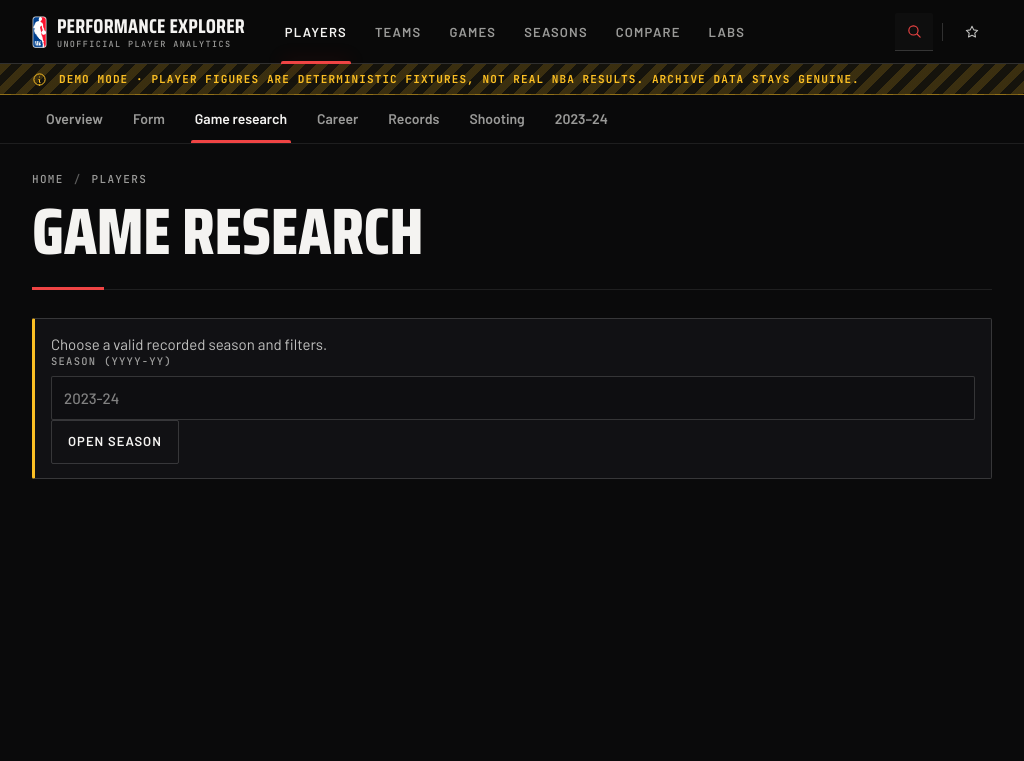
raw game research UI › does not fetch invalid URLs and can recover with an explicit season
The width and height of the screenshot is (1024, 761).
Check: the message shows "Choose a valid recorded season", box [51, 335, 327, 353]
In the field labelled "Season (YYYY-YY)": (513, 398) [51, 376, 975, 420], type "2022-23"
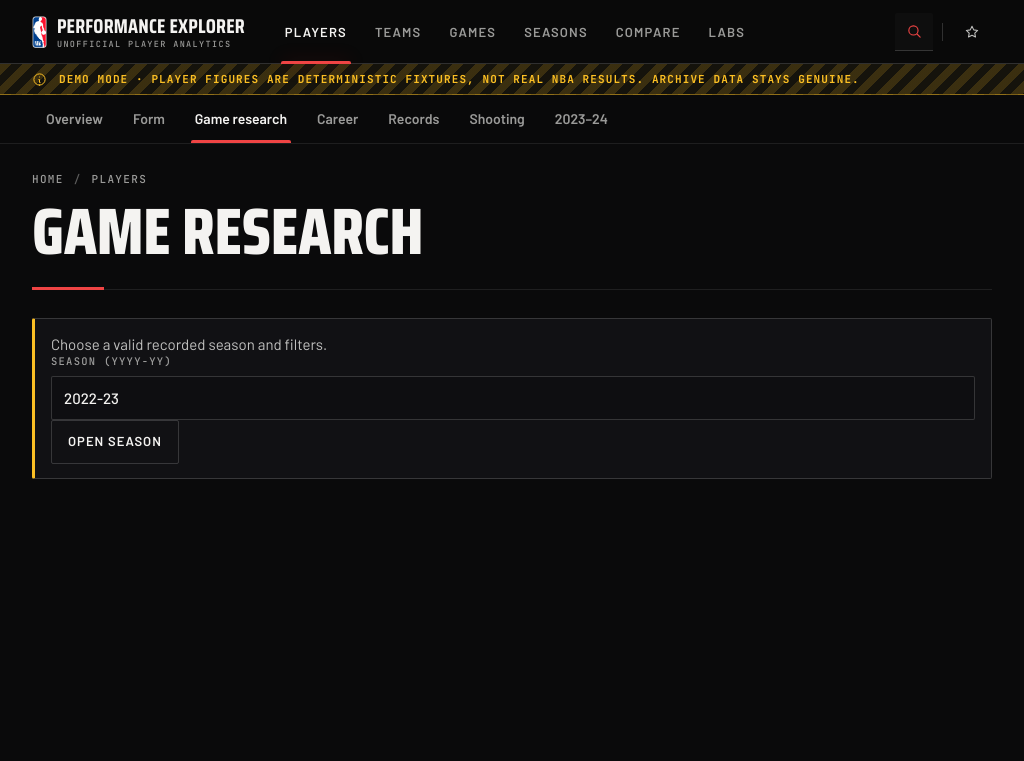
Click the button "Open season": (115, 442) [51, 420, 179, 464]
(page scrolled)
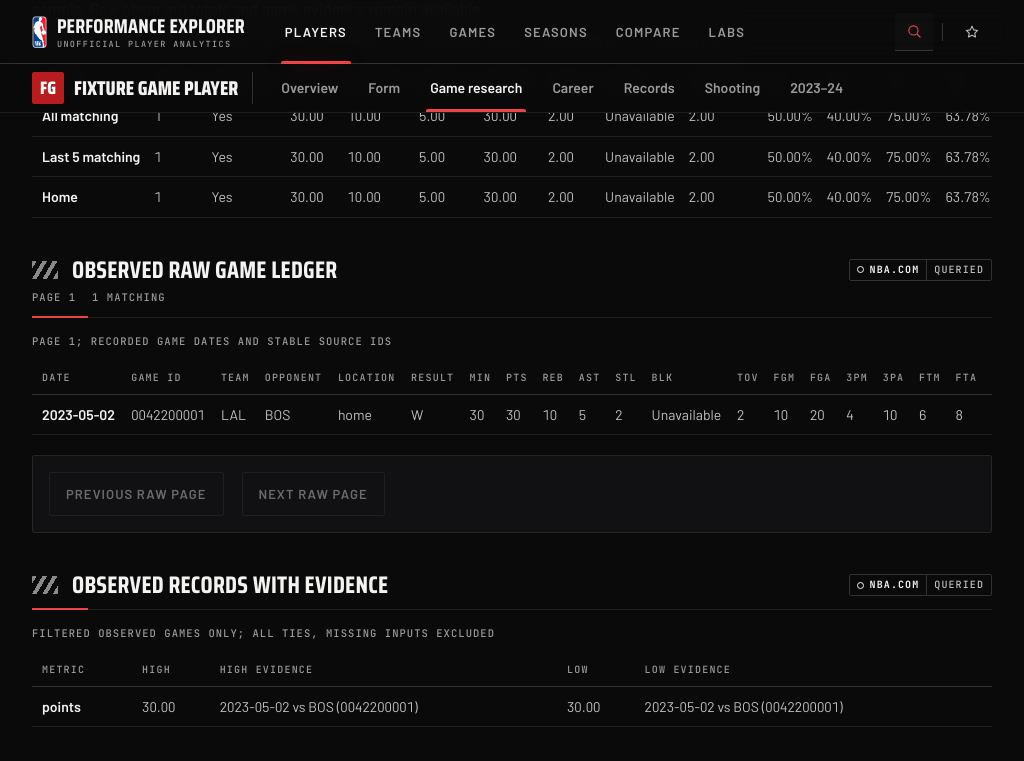
Check: the table "Page 1" is shown, box [32, 334, 992, 435]
